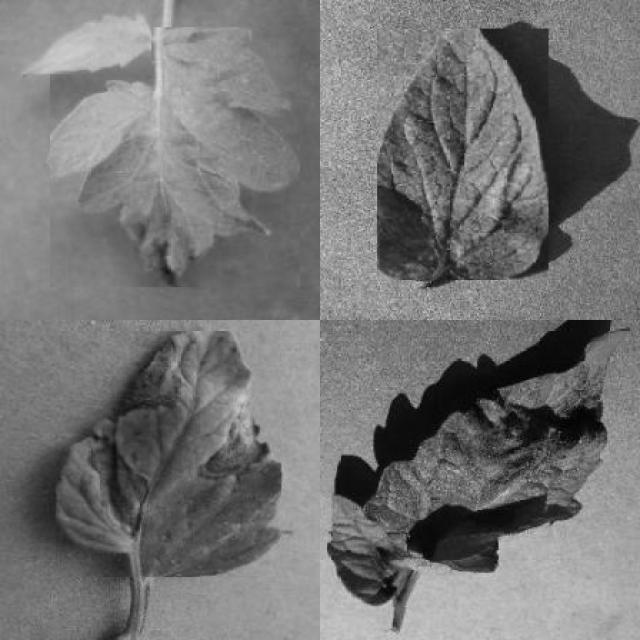Early Blight: (56, 330, 281, 577)
Healthy: (18, 12, 152, 74)
Late Blight: (328, 330, 631, 607), (50, 27, 300, 287)
Spider Mites: (377, 29, 549, 281)
